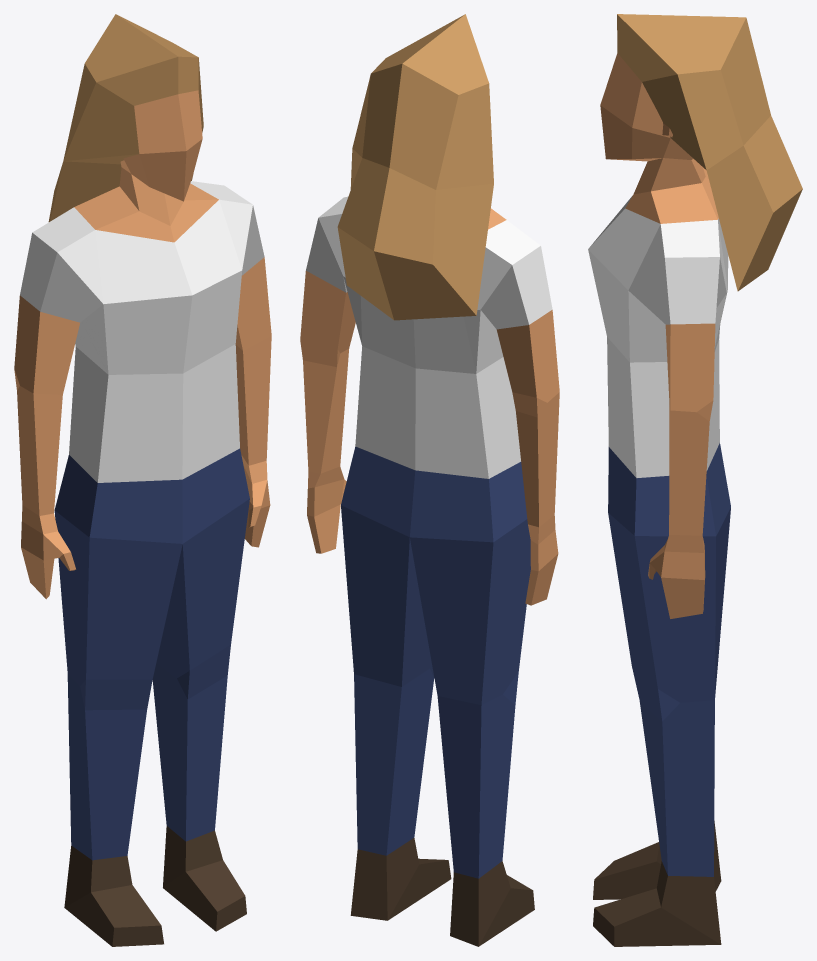
Rendered from woman-casual-pants.glb.
The picture shows the model from 3 angles, left to right: view 1: azimuth 30°, elevation 25°; view 2: azimuth 150°, elevation 25°; view 3: azimuth 270°, elevation 25°; orthographic projection. The views are drawn at different scales.
Parts seen in each view (by area): view 1: woman-casual-pants; view 2: woman-casual-pants; view 3: woman-casual-pants.
Boxes of the visible parts, x1,y1,x2,y2 form: woman-casual-pants: (14, 14, 271, 946); woman-casual-pants: (300, 14, 559, 946); woman-casual-pants: (588, 14, 802, 946).
Bounding box in the file's own units: 0.5327 × 1.86 × 0.4019.
1 material, 1 textured.
